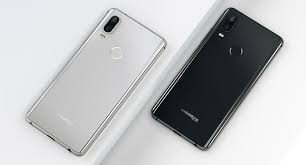vsmart: (20, 4, 168, 160), (146, 1, 285, 152)
